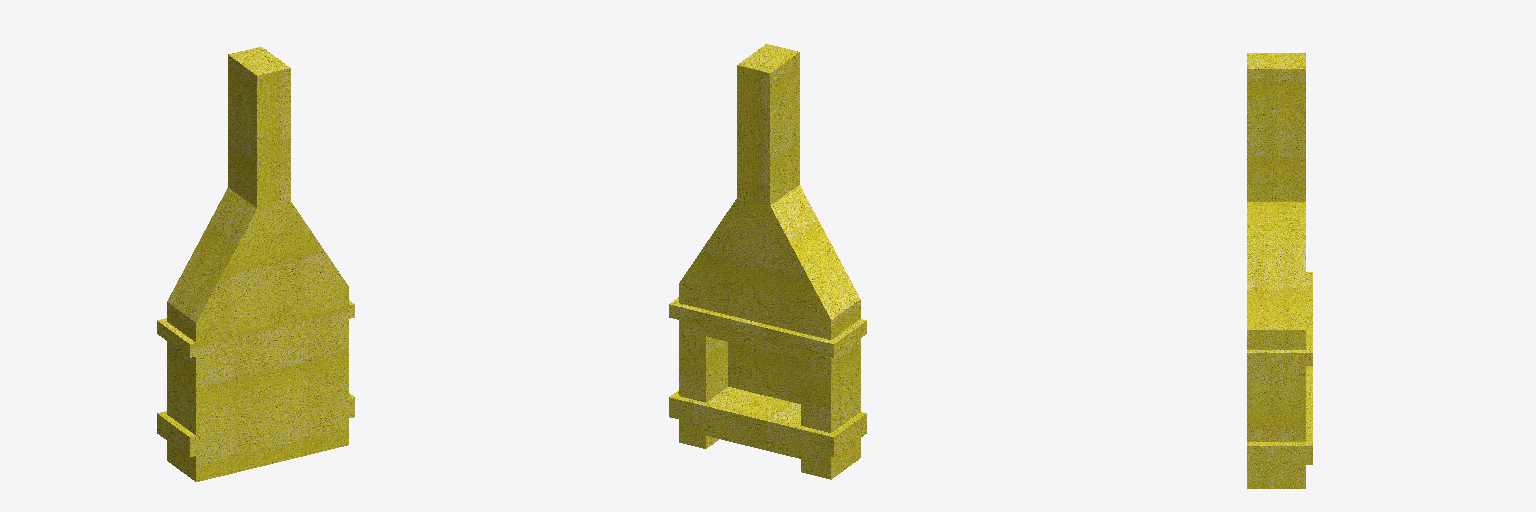
The picture shows the model from 3 angles: view 1: azimuth 30°, elevation 25°; view 2: azimuth 150°, elevation 25°; view 3: azimuth 270°, elevation 25°; orthographic projection.
Size of the model in its own units: 2.6 by 5.9 by 0.9.
Materials: 2 (1 with a texture image).